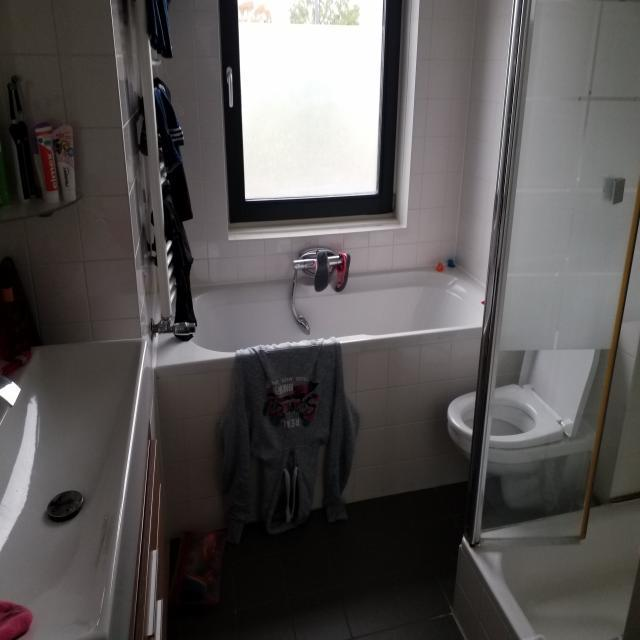bath: (155, 245, 528, 436)
designradiator: (132, 0, 196, 338)
douche: (450, 0, 640, 640)
toilet: (444, 346, 602, 509)
wastafel: (0, 332, 151, 640), (125, 418, 171, 640)
